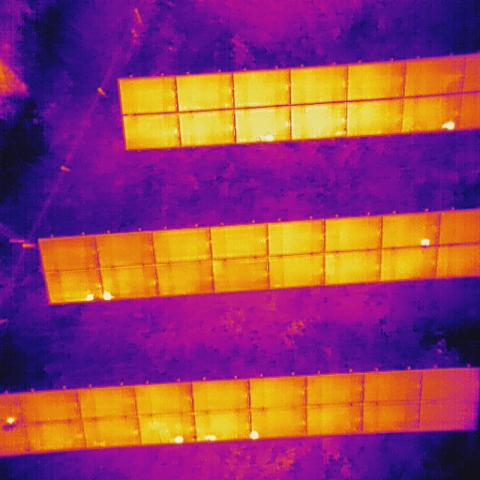1: (441, 118, 456, 132), (204, 432, 220, 443), (259, 133, 275, 142)
fault: (419, 236, 432, 248), (102, 290, 114, 303), (83, 291, 95, 302), (249, 430, 260, 442), (173, 433, 184, 444), (6, 414, 16, 425)
